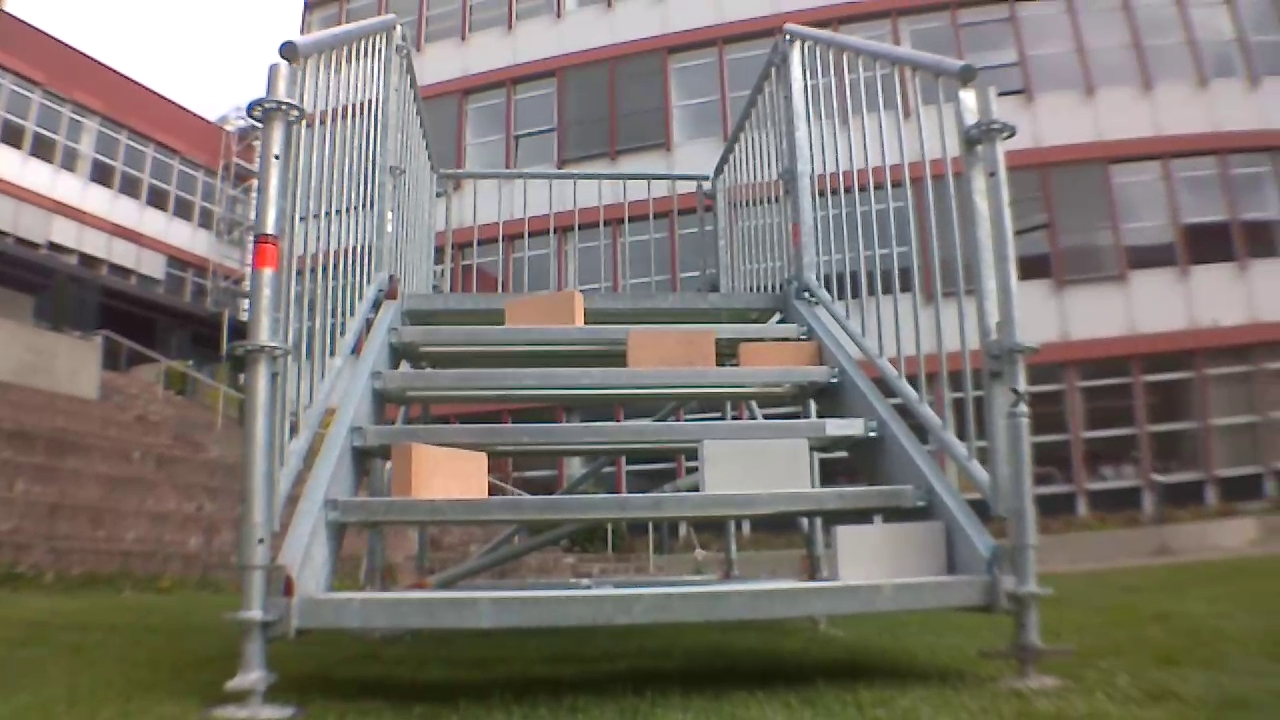brick: (829, 523, 944, 580), (696, 439, 809, 489), (390, 442, 486, 498), (629, 330, 714, 366), (505, 290, 583, 325), (738, 342, 818, 367)
edge: (294, 580, 988, 625), (325, 485, 926, 518), (350, 419, 886, 442), (372, 365, 839, 388), (388, 323, 812, 339), (404, 291, 780, 308)
stairs: (228, 15, 1071, 714)
steps: (286, 287, 997, 637)
